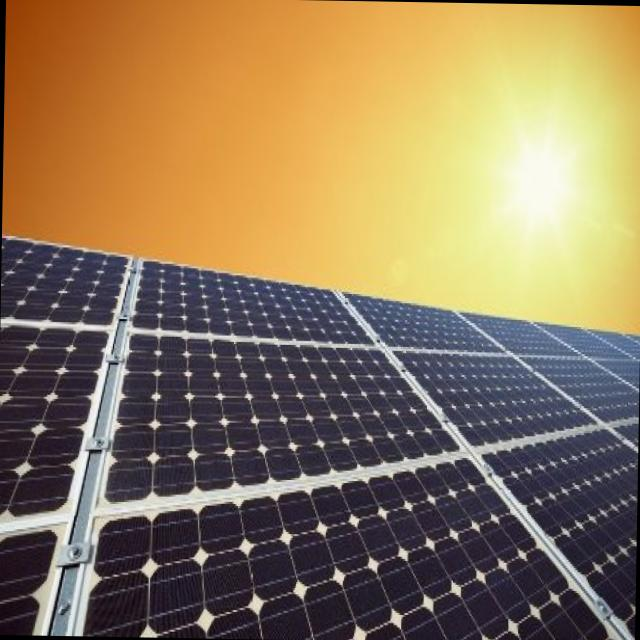no faulty: (0, 237, 635, 640)
